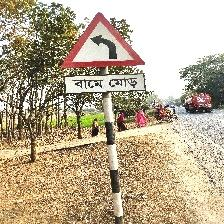Left-Turn: (59, 11, 147, 97)
